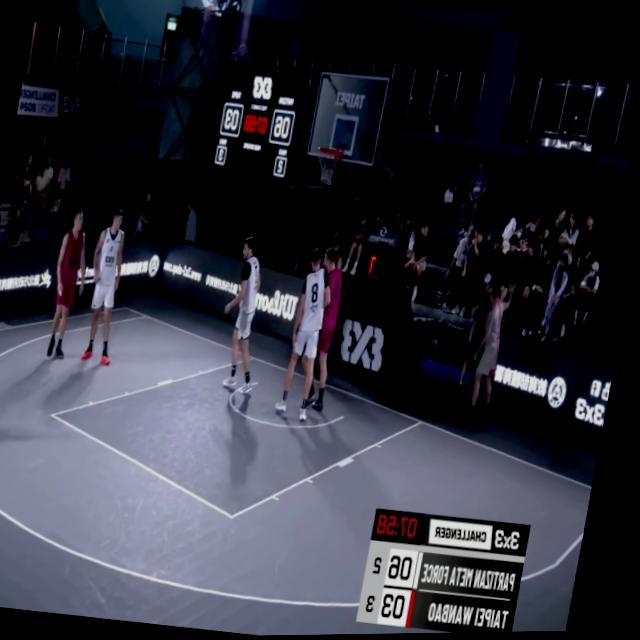hoop: (313, 144, 347, 189)
player: (213, 231, 283, 398), (276, 246, 338, 427), (78, 204, 140, 368), (301, 245, 355, 414), (43, 207, 100, 361)
